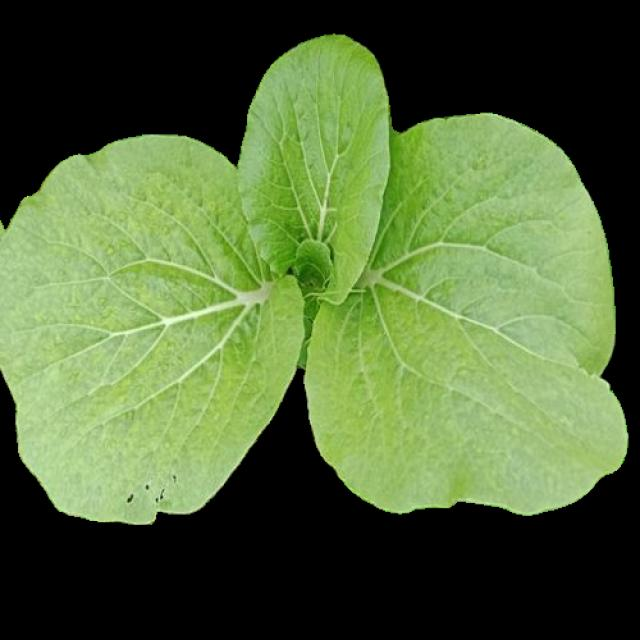mature: (1, 34, 626, 520)
unhealthy: (2, 136, 306, 520)
